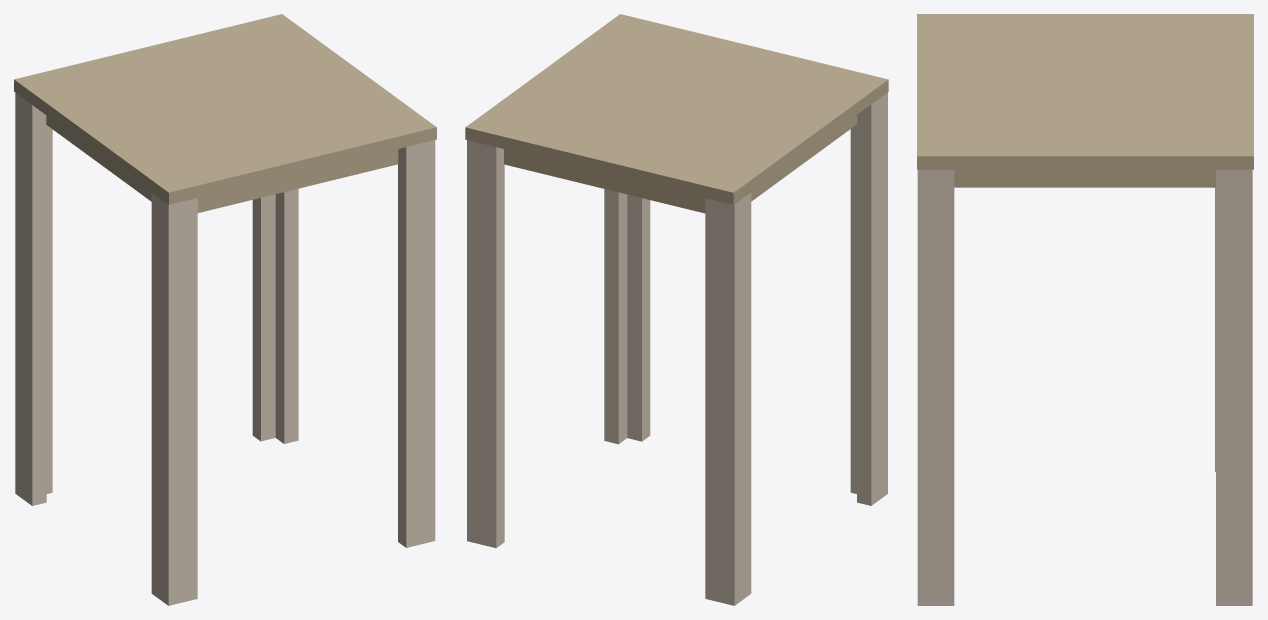
Rendered from table.glb.
3 renders of one model, left to right at view 1: azimuth 30°, elevation 25°; view 2: azimuth 150°, elevation 25°; view 3: azimuth 270°, elevation 25°, orthographic. The views are drawn at different scales.
Visible parts, largest first — view 1: Table; view 2: Table; view 3: Table.
Boxes of the visible parts, x1,y1,x2,y2 form: Table: [14, 14, 436, 605]; Table: [465, 14, 888, 605]; Table: [917, 14, 1253, 605].
Size of the model in its own units: 2 by 2.95 by 2.
